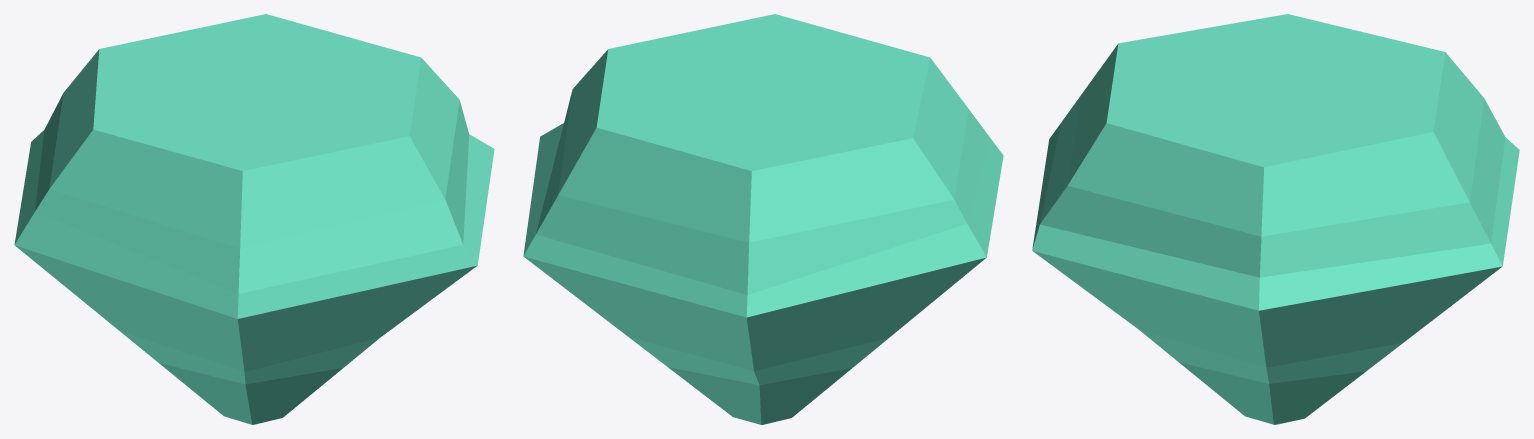
File: Crystal5 Damaged.glb
3 renders of one model, left to right at view 1: azimuth 30°, elevation 25°; view 2: azimuth 150°, elevation 25°; view 3: azimuth 270°, elevation 25°, orthographic.
Parts seen in each view (by area): view 1: Crystal5_Damaged; view 2: Crystal5_Damaged; view 3: Crystal5_Damaged.
Part boxes in pixels (bbox=[...]): Crystal5_Damaged: bbox=[14, 14, 494, 424]; Crystal5_Damaged: bbox=[523, 14, 1003, 424]; Crystal5_Damaged: bbox=[1032, 14, 1519, 424].
Size of the model in its own units: 0.2517 by 0.1724 by 0.2258.
